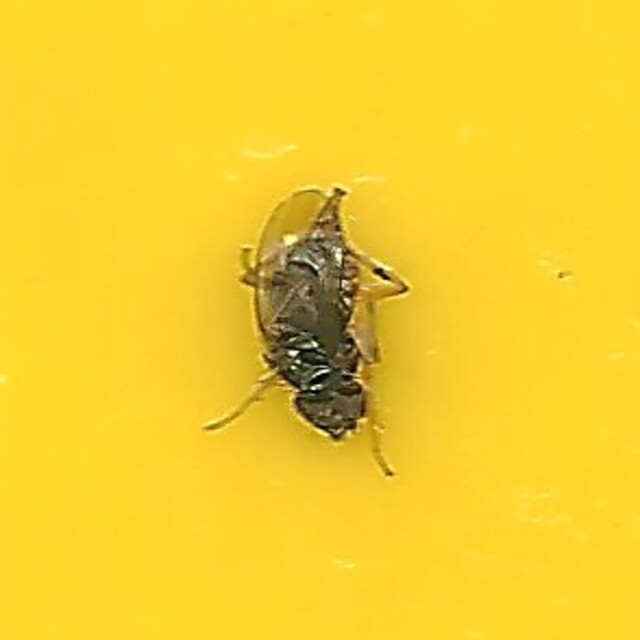Brachycera: (218, 187, 422, 453)
